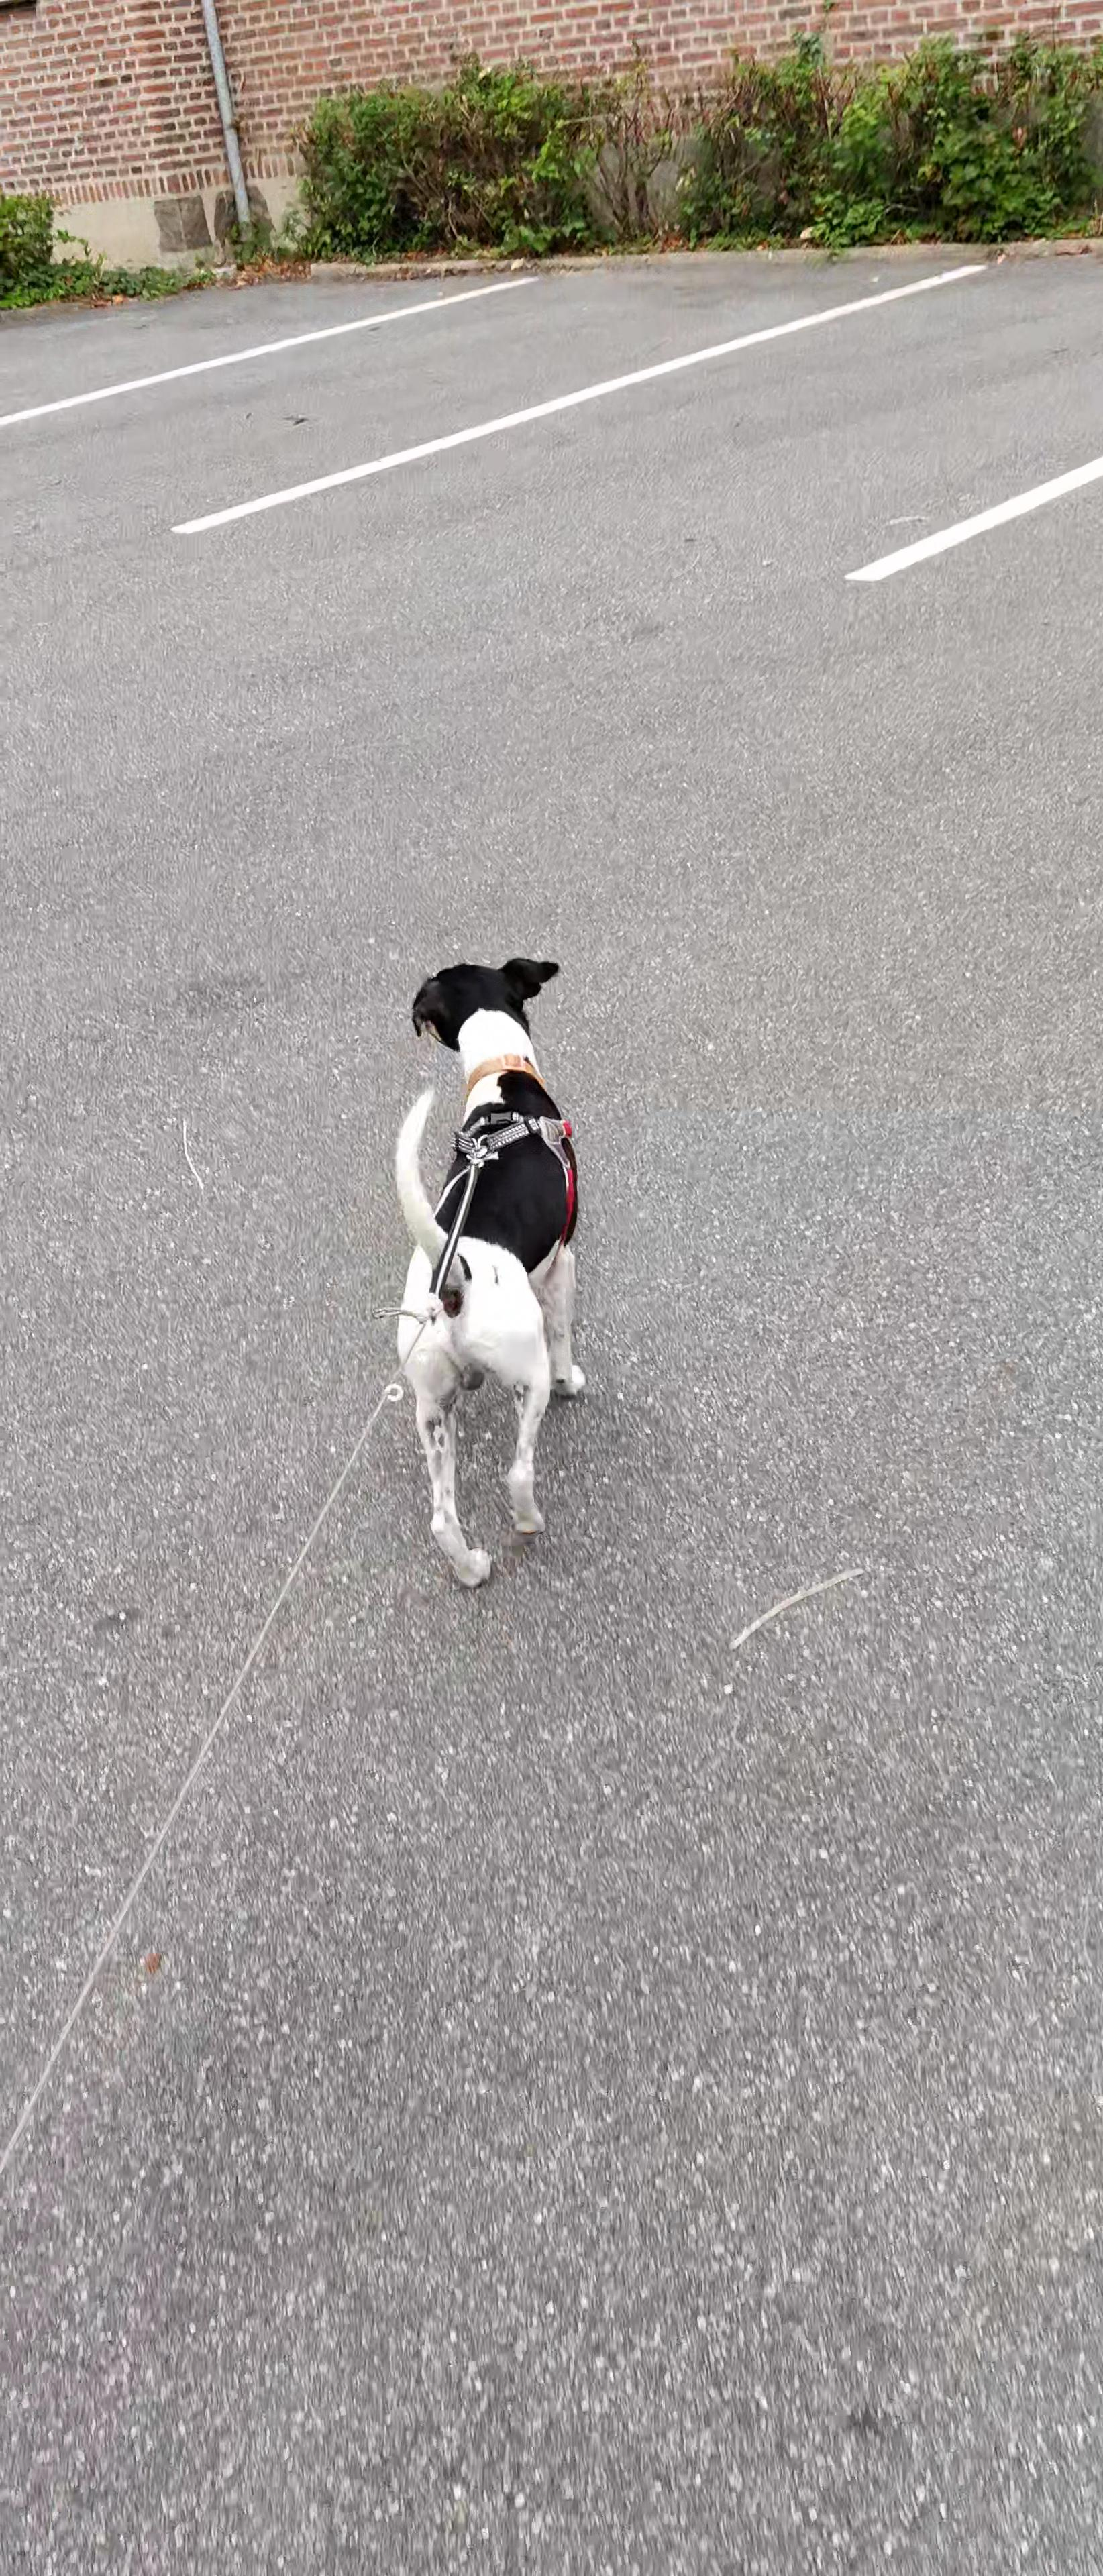Dog: (386, 945, 593, 1597)
